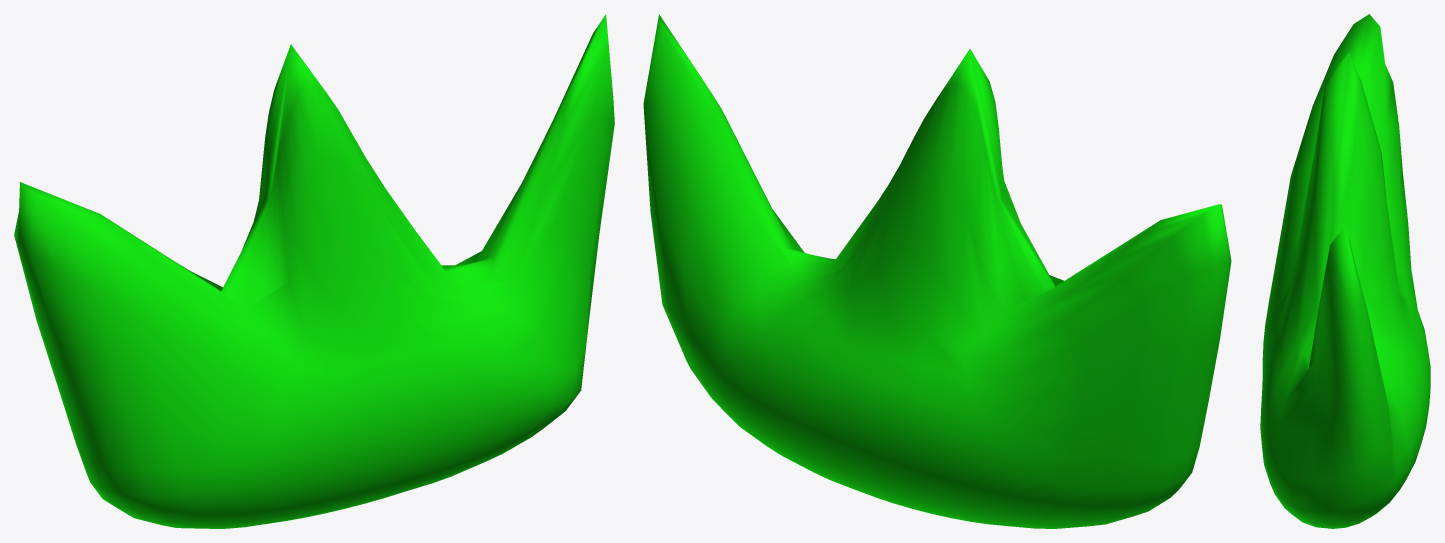
The model's file is grass.glb.
The picture shows the model from 3 angles, left to right: view 1: azimuth 30°, elevation 25°; view 2: azimuth 150°, elevation 25°; view 3: azimuth 270°, elevation 25°; orthographic projection. The views are drawn at different scales.
Parts seen in each view (by area): view 1: Sphere; view 2: Sphere; view 3: Sphere.
Part boxes in pixels (bbox=[...]): Sphere: bbox=[14, 14, 614, 528]; Sphere: bbox=[643, 14, 1231, 528]; Sphere: bbox=[1260, 14, 1430, 528].
Bounding box in the file's own units: 5.67 × 4.29 × 1.61.
